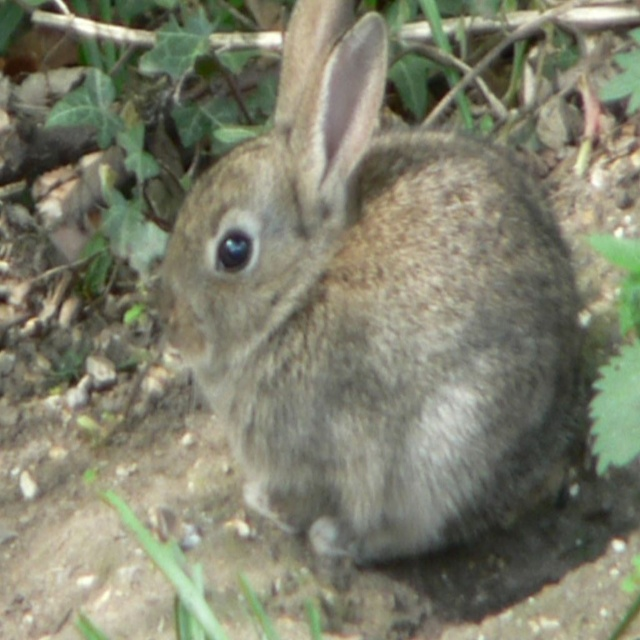Rabbit: (159, 0, 599, 565)
